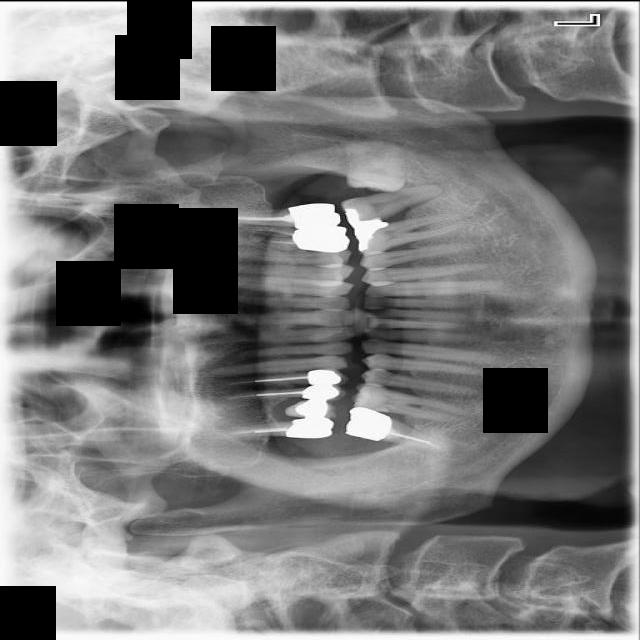52: (287, 383, 346, 438), (350, 211, 404, 258), (343, 403, 398, 446), (338, 186, 388, 233), (286, 199, 343, 232), (297, 225, 351, 252), (308, 368, 350, 385)
73: (377, 414, 459, 457), (210, 204, 297, 227), (221, 370, 309, 391), (220, 419, 293, 444), (232, 223, 302, 249), (222, 386, 306, 404), (556, 48, 569, 53)
BioHorizons Implant: (210, 200, 342, 235)
Biomet 3i Implant: (344, 139, 408, 194)
Blue Sky Bio Implant: (340, 178, 448, 230)
Caries: (221, 417, 334, 438)
Implant: (343, 403, 458, 457)
